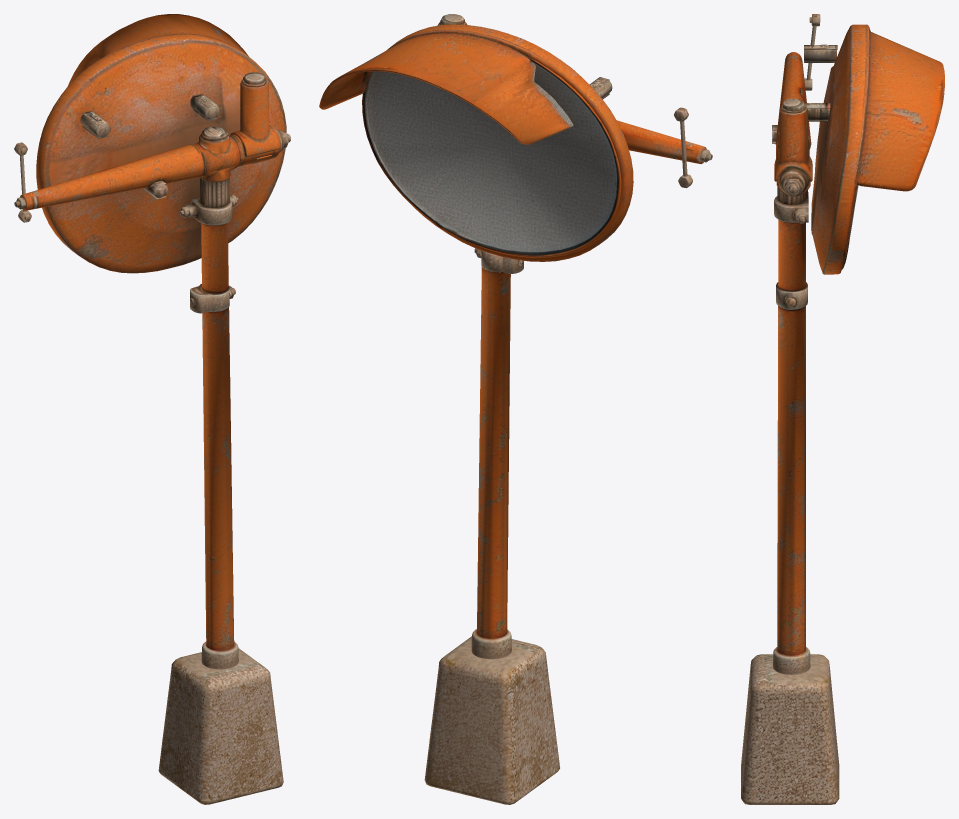
File: curve_mirror.glb
The picture shows the model from 3 angles, left to right: view 1: azimuth 30°, elevation 25°; view 2: azimuth 150°, elevation 25°; view 3: azimuth 270°, elevation 25°; orthographic projection. The views are drawn at different scales.
Visible parts, largest first — view 1: tripo_node_5425d554-bf95-4643-85c7-89a9a731089b; view 2: tripo_node_5425d554-bf95-4643-85c7-89a9a731089b; view 3: tripo_node_5425d554-bf95-4643-85c7-89a9a731089b.
Part boxes in pixels (left/top/right/bottom): tripo_node_5425d554-bf95-4643-85c7-89a9a731089b: left=14, top=14, right=290, bottom=804; tripo_node_5425d554-bf95-4643-85c7-89a9a731089b: left=319, top=14, right=712, bottom=804; tripo_node_5425d554-bf95-4643-85c7-89a9a731089b: left=741, top=14, right=944, bottom=804.
Size of the model in its own units: 0.438 by 0.9995 by 0.2534.
Materials: 1 (1 with a texture image).
